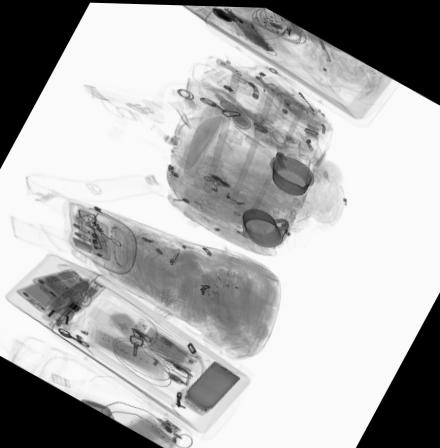Lighter: (283, 100, 308, 121)
